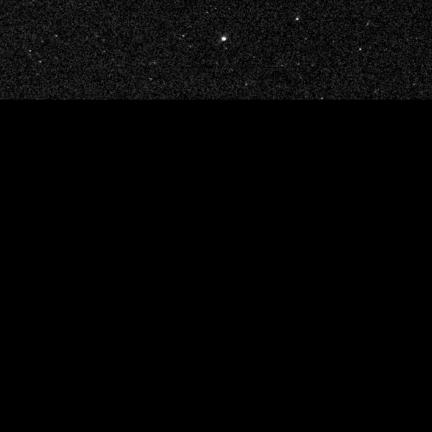blob: (222, 37, 226, 41)
